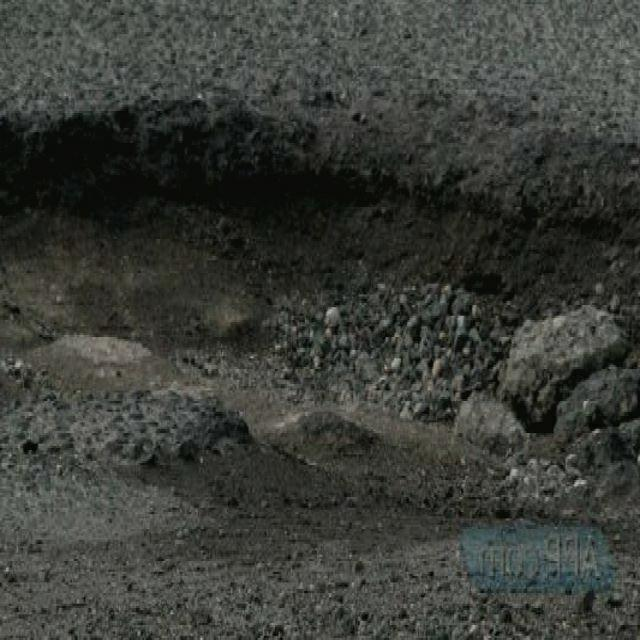Pothole: (1, 81, 640, 523)
